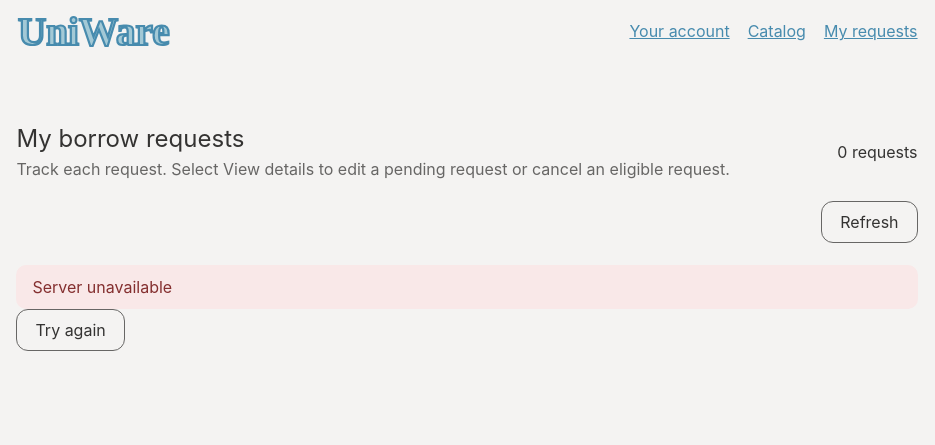
Test: US4-3 my borrow requests list › shows server errors with a retry that recovers
Expected: the message reads "Server unavailable", [32,277,172,297]
Click the button "Try again" at (71, 330), box [16,309,125,351]
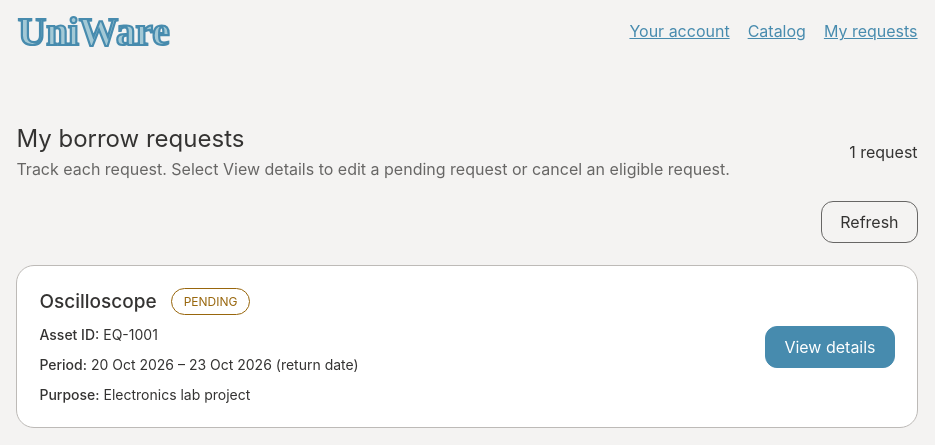
Now the heading "Oscilloscope" is shown, box [39,290,157,313]
